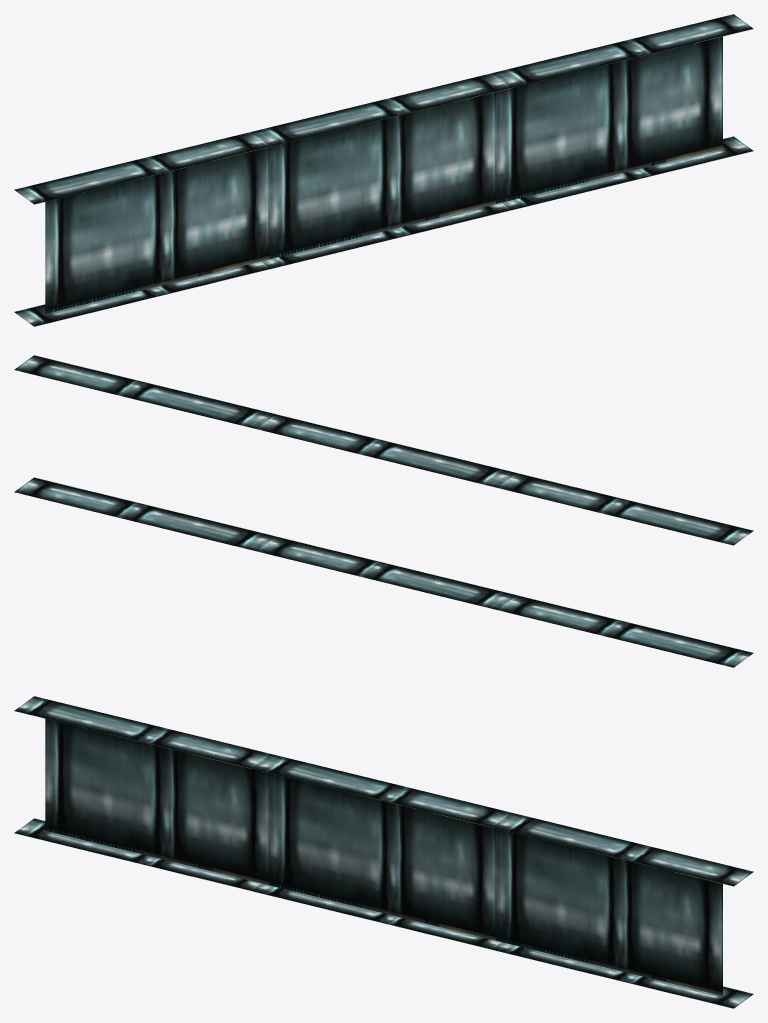
File: Geländer2 [Rohre]_2514.glb
3 views of the same model, one above another, from view 1: azimuth 30°, elevation 25°; view 2: azimuth 150°, elevation 25°; view 3: azimuth 330°, elevation 25° (orthographic).
Visible parts, largest first — view 1: pPlaneShape223, pPlaneShape224, pPlaneShape225; view 2: pPlaneShape224, pPlaneShape225; view 3: pPlaneShape223, pPlaneShape224, pPlaneShape225.
Part boxes in pixels (bbox=[...]): pPlaneShape223: bbox=[45, 36, 722, 313]; pPlaneShape224: bbox=[14, 14, 753, 204]; pPlaneShape225: bbox=[14, 136, 753, 326]; pPlaneShape224: bbox=[14, 355, 753, 545]; pPlaneShape225: bbox=[14, 477, 753, 667]; pPlaneShape223: bbox=[45, 718, 722, 995]; pPlaneShape224: bbox=[14, 696, 753, 886]; pPlaneShape225: bbox=[14, 818, 753, 1008].
Bounding box in the file's own units: 0.5 × 0.0811 × 0.0243.
Materials: 3 (3 with a texture image).
